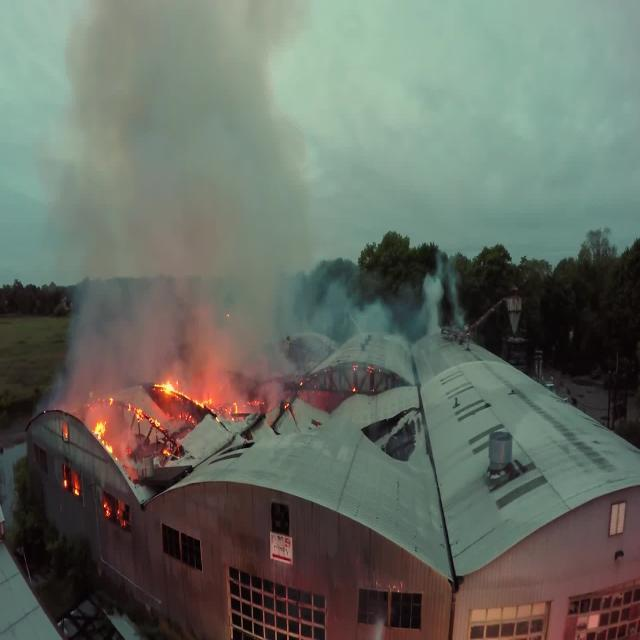Fire: (62, 345, 230, 480)
Smoke: (68, 5, 302, 361)
